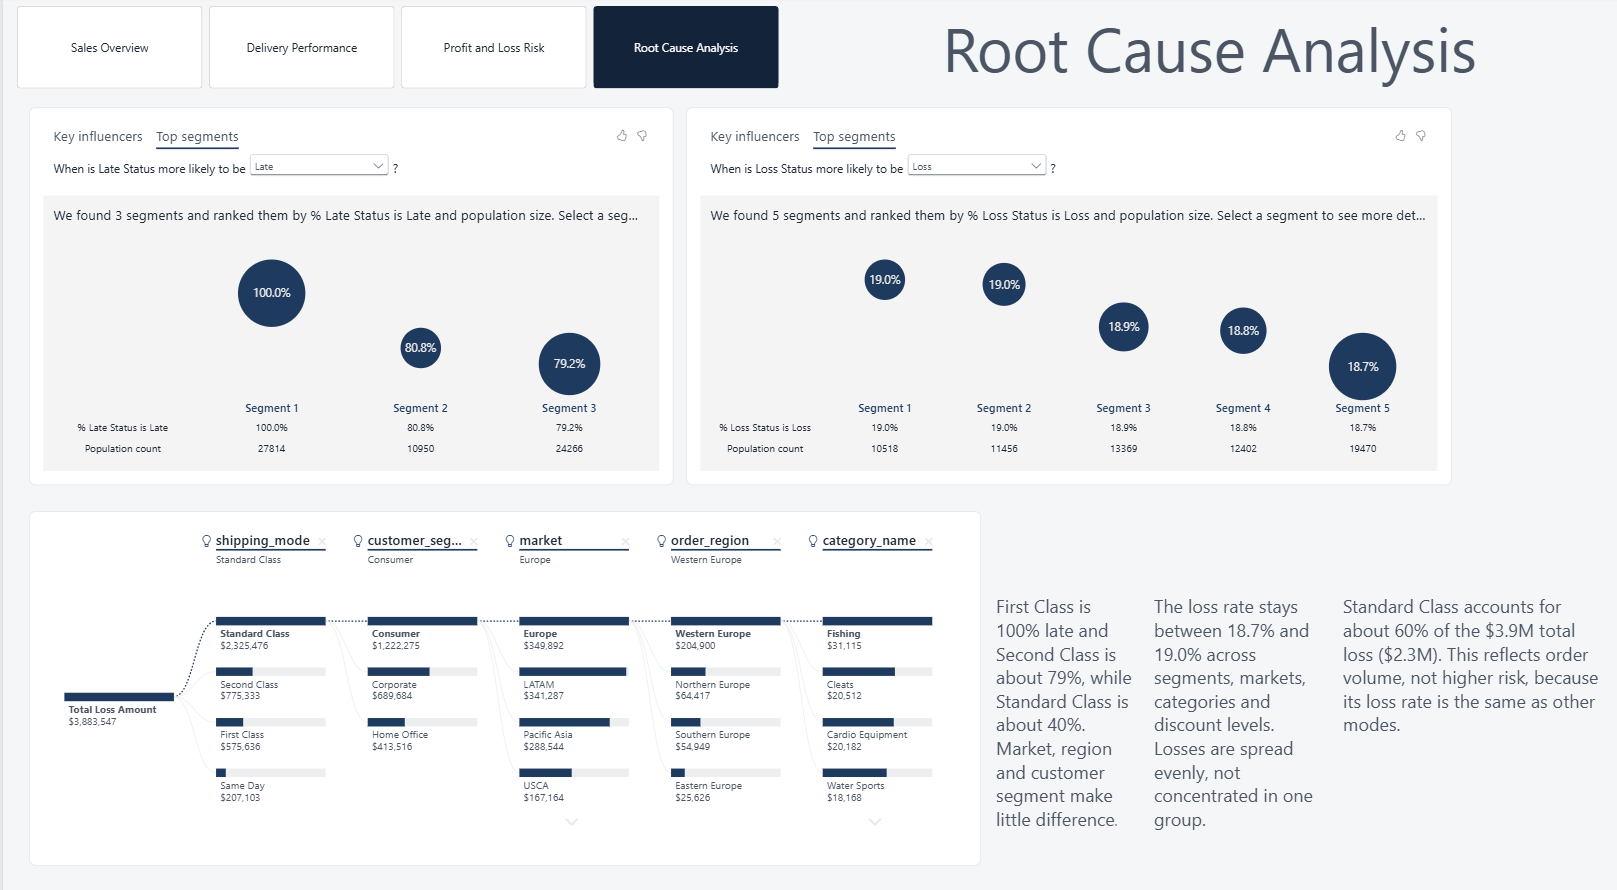

What the dashboard file says about the page in this screenshot:
{"tool":"powerbi","page":{"name":"Root Cause Analysis","canvas":[1920,1080],"ordinal":4},"visuals":[{"type":"keyDriversVisual","fields":{"ExplainBy":["dataco_orders.shipping_mode","dataco_orders.market","customers.customer_segment","dataco_orders.category_name","dataco_orders.order_region","Sum(dataco_orders.order_item_quantity)"],"Target":["dataco_orders.Late Status"]},"box":[30.9,131.1,764.8,449.4],"z":0},{"type":"keyDriversVisual","fields":{"ExplainBy":["dataco_orders.category_name","dataco_orders.market","dataco_orders.shipping_mode","Sum(dataco_orders.order_item_discount_rate)","dataco_orders.customer_segment"],"Target":["dataco_orders.Loss Status"]},"box":[810.4,131.1,909.2,449.4],"z":1},{"type":"decompositionTreeVisual","fields":{"Analyze":["_Measures.Total Loss Amount"],"ExplainBy":["dataco_orders.shipping_mode","customers.customer_segment","dataco_orders.market","dataco_orders.order_region","dataco_orders.category_name"]},"box":[30.9,611.5,1130.2,421.4],"z":2},{"type":"textbox","box":[979.9,11.8,903.3,98.7],"z":3},{"type":"textbox","box":[1178.8,710.2,168,322.7],"z":4},{"type":"textbox","box":[1366,710.2,200.4,336],"z":5},{"type":"textbox","box":[1589.9,710.2,306.5,336],"z":6},{"type":"pageNavigator","box":[16.2,11.8,904.7,98.7],"z":7}]}

Visuals, with their boxes in screenshot pixels (x1, y1, x2, y2), scaled from the page's 1920x1080 canvas onto the 1617x890 screenshot:
keyDriversVisual - dataco_orders.shipping_mode x dataco_orders.market: bbox=(26, 108, 670, 478)
keyDriversVisual - dataco_orders.category_name x dataco_orders.market: bbox=(683, 108, 1448, 478)
decompositionTreeVisual - _Measures.Total Loss Amount x dataco_orders.shipping_mode: bbox=(26, 504, 978, 851)
textbox: bbox=(825, 10, 1586, 91)
textbox: bbox=(993, 585, 1134, 851)
textbox: bbox=(1150, 585, 1319, 862)
textbox: bbox=(1339, 585, 1597, 862)
pageNavigator: bbox=(14, 10, 776, 91)
